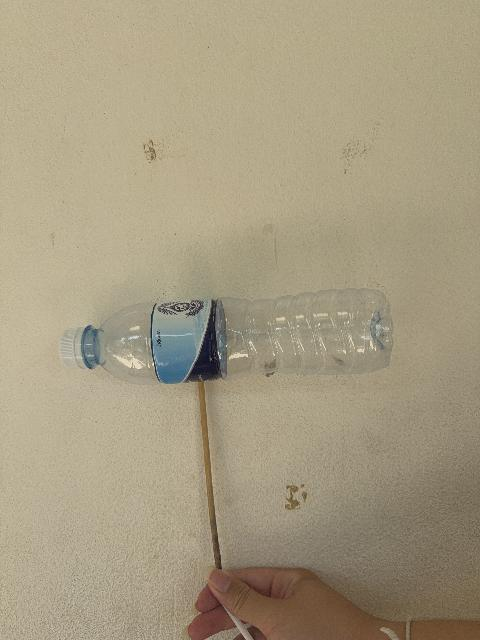bottle: (60, 289, 392, 384)
